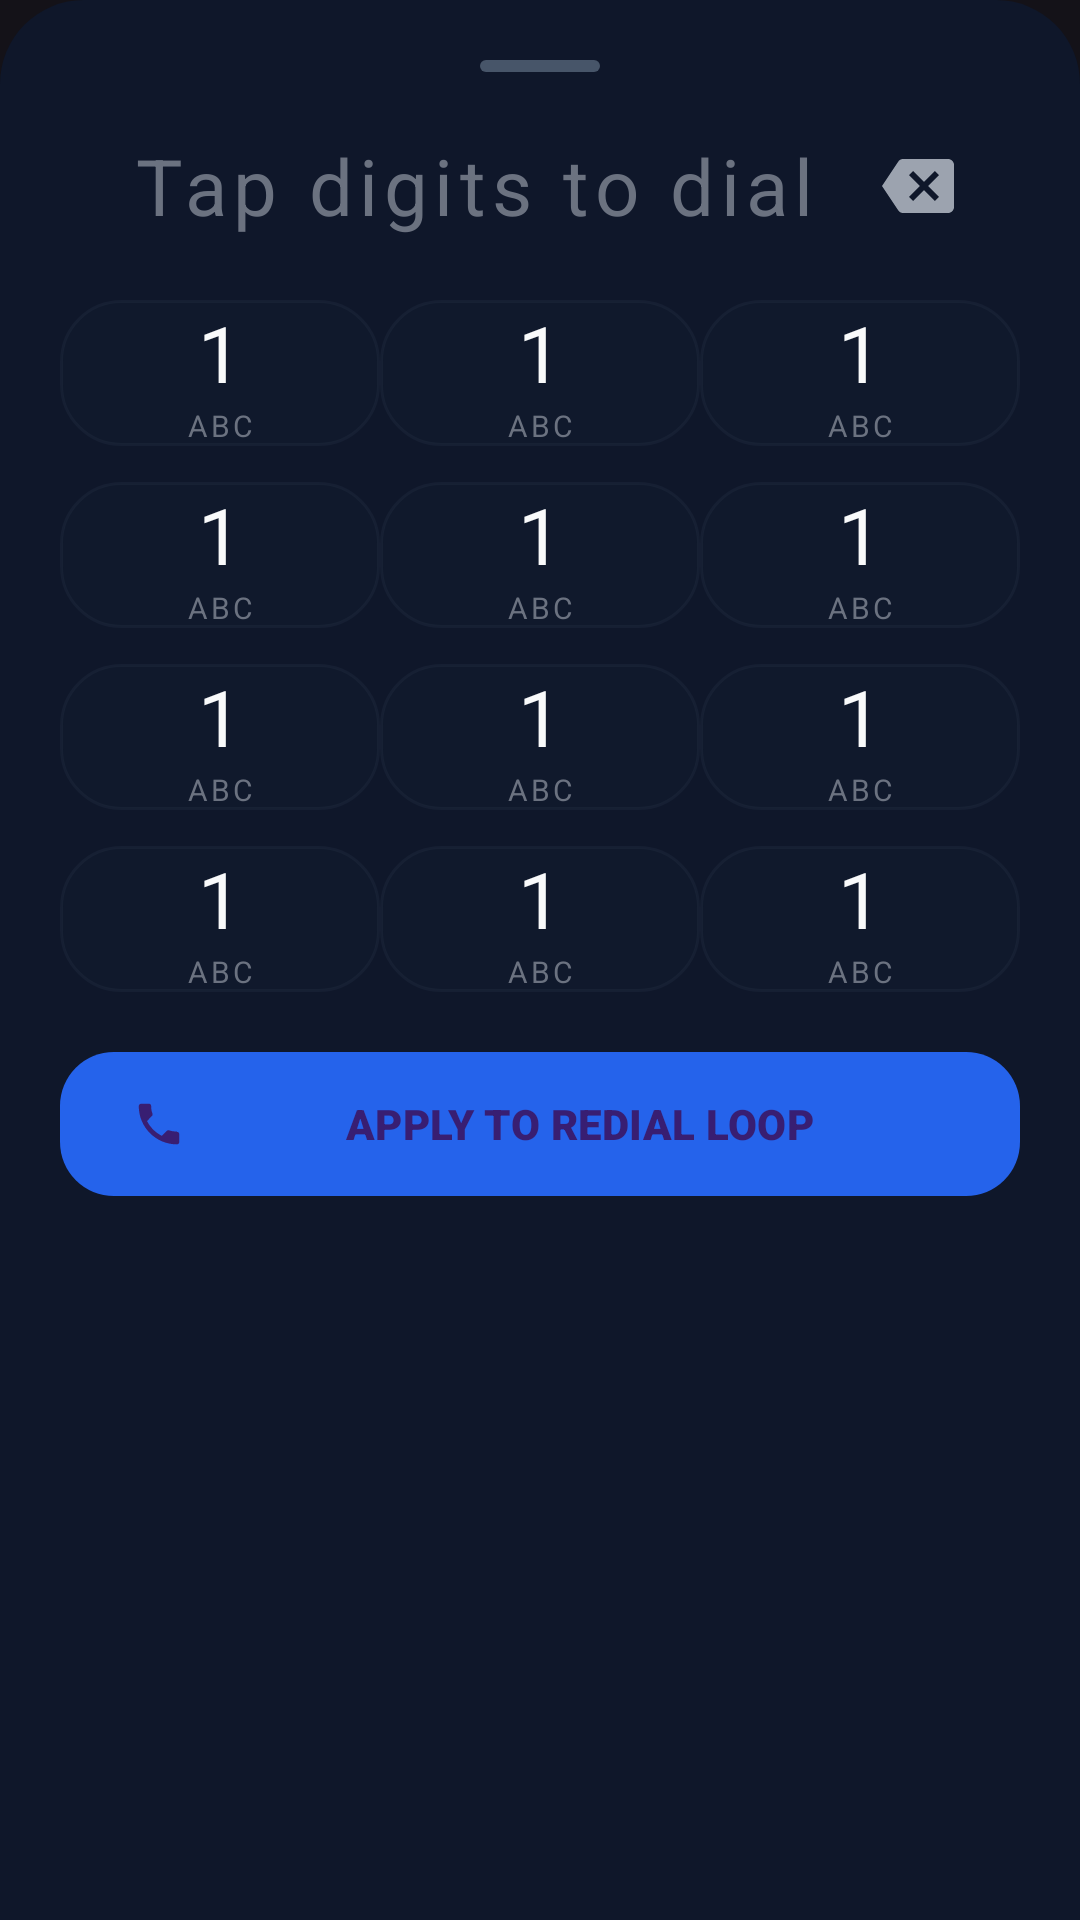

Icon click points for this 1080px x 1920px phone screenshot, format [x,y]:
backspace: [918,186]
